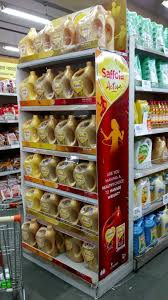saffola: (18, 47, 134, 285), (0, 86, 65, 166)
